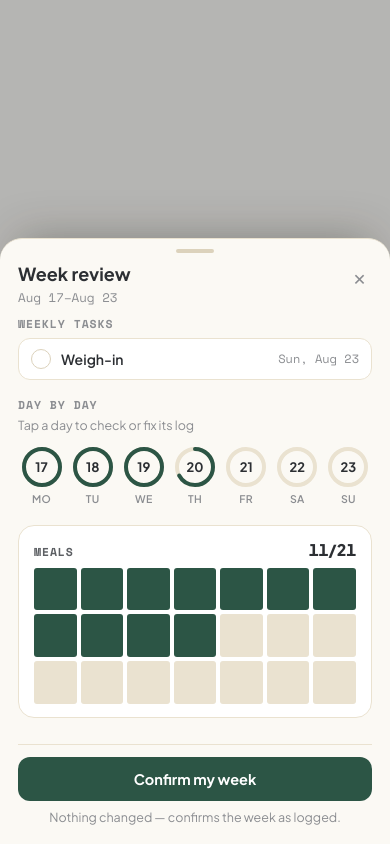
Test: WeekReviewSheet › the confirm footer (check-in rebuild, step 5) › updates the label and helper as a toggle diverges from the initial fetch
Expected: the heading "DAY BY DAY" is shown, [18,396,98,413]
Click the list item "21 Fr": x=246, y=476 [223,443,270,509]
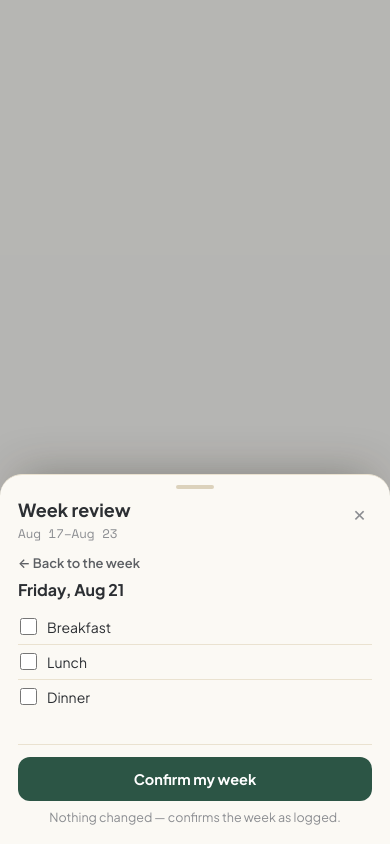
Expected: the button "← Back to the week" is shown, [18,552,140,572]
Click the checkbox labelled "Breakfast": x=28, y=626 [20,618,37,635]
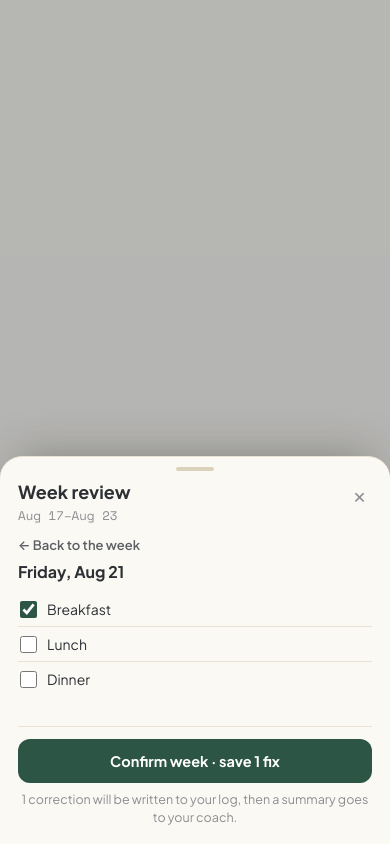
Expected: the button "Confirm week · save 1 fix" is shown, [18,739,372,783]
Expected: the text "1 correction will be written to your log, then a summary goes to your coach." is shown, [18,791,372,826]
